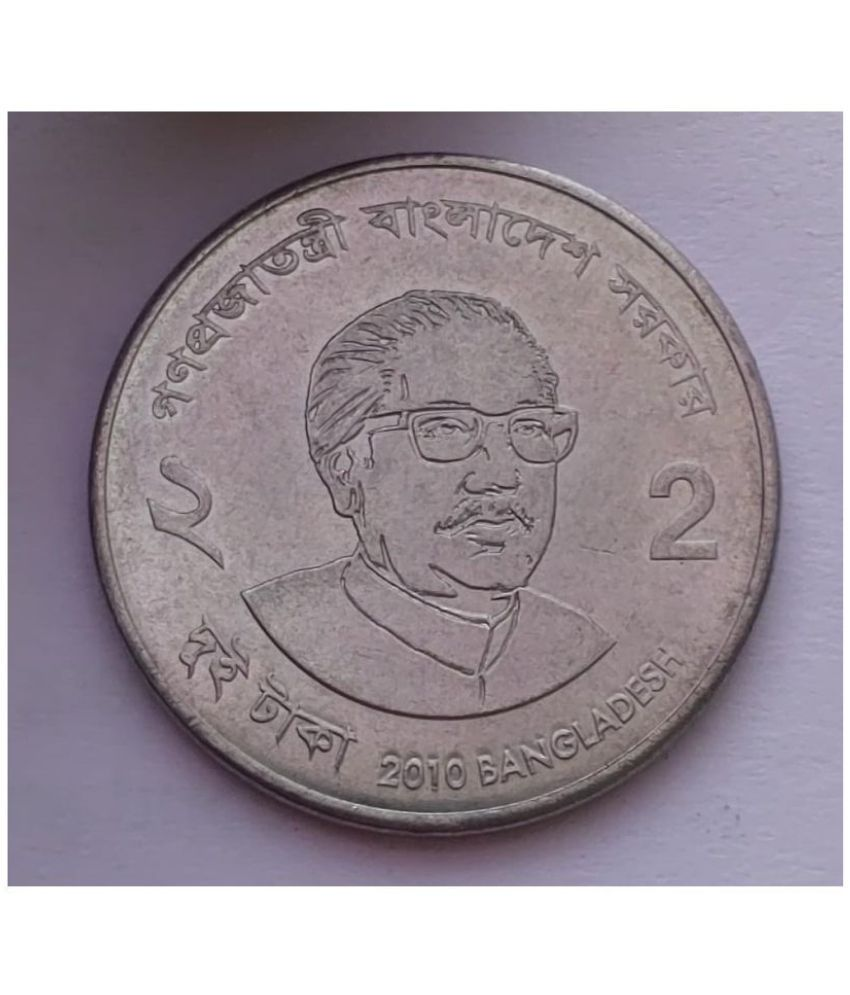5 taka coin: (95, 156, 788, 839)
